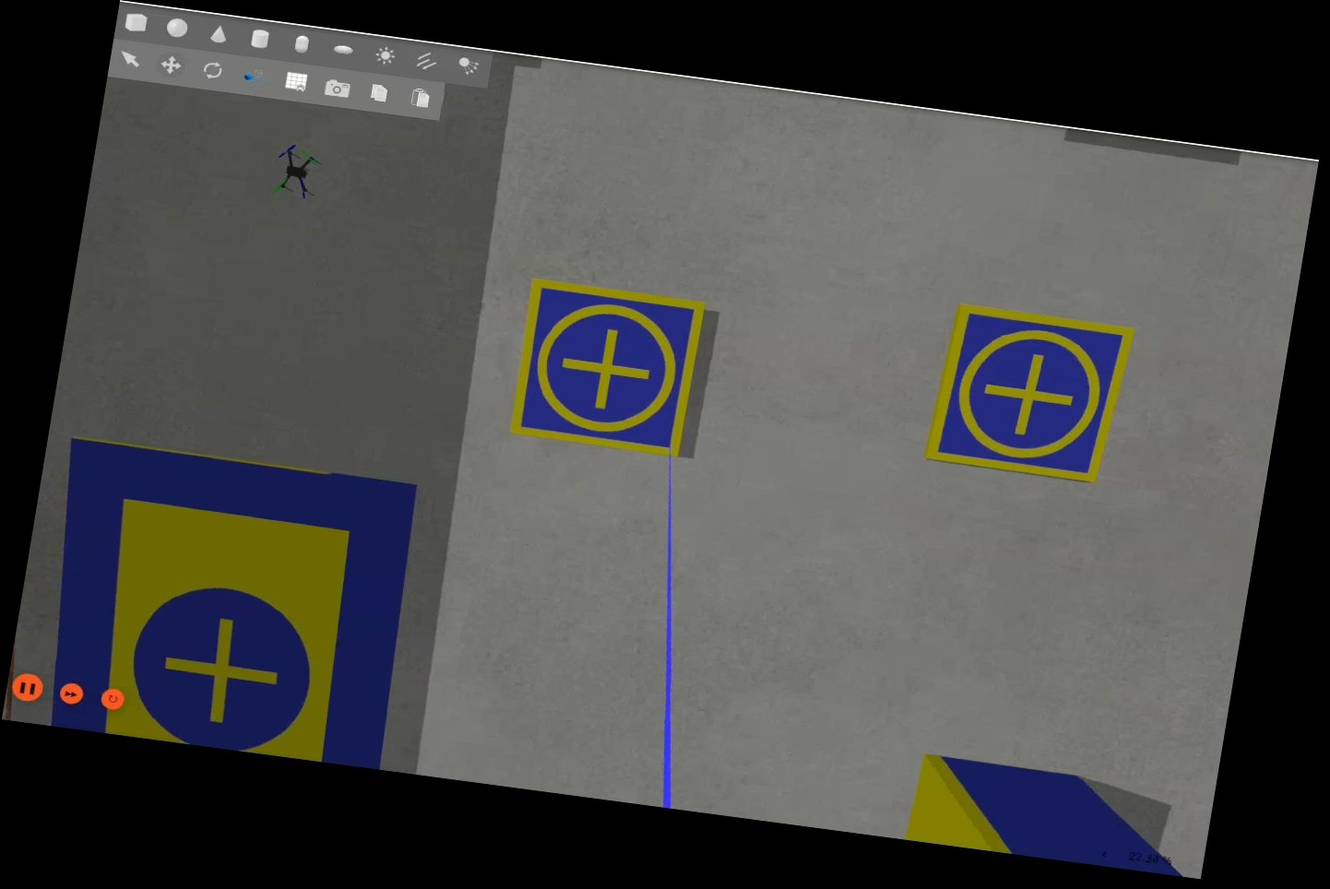large_base: (25, 439, 422, 774)
small_base: (920, 297, 1134, 487), (504, 273, 711, 464)
